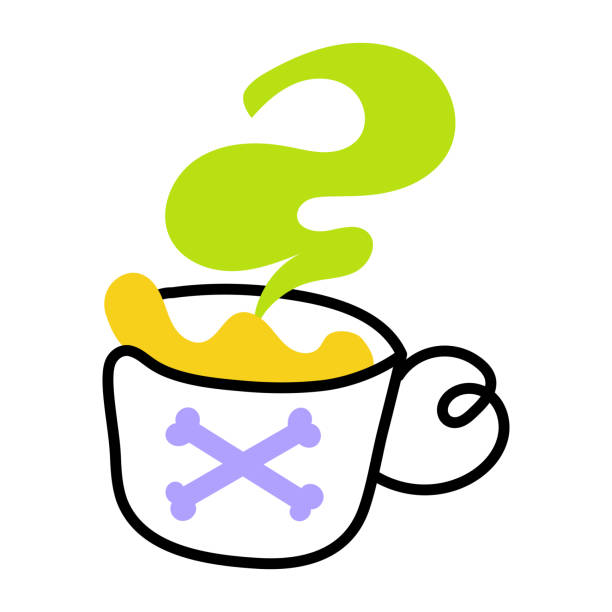cup: (19, 9, 564, 551)
